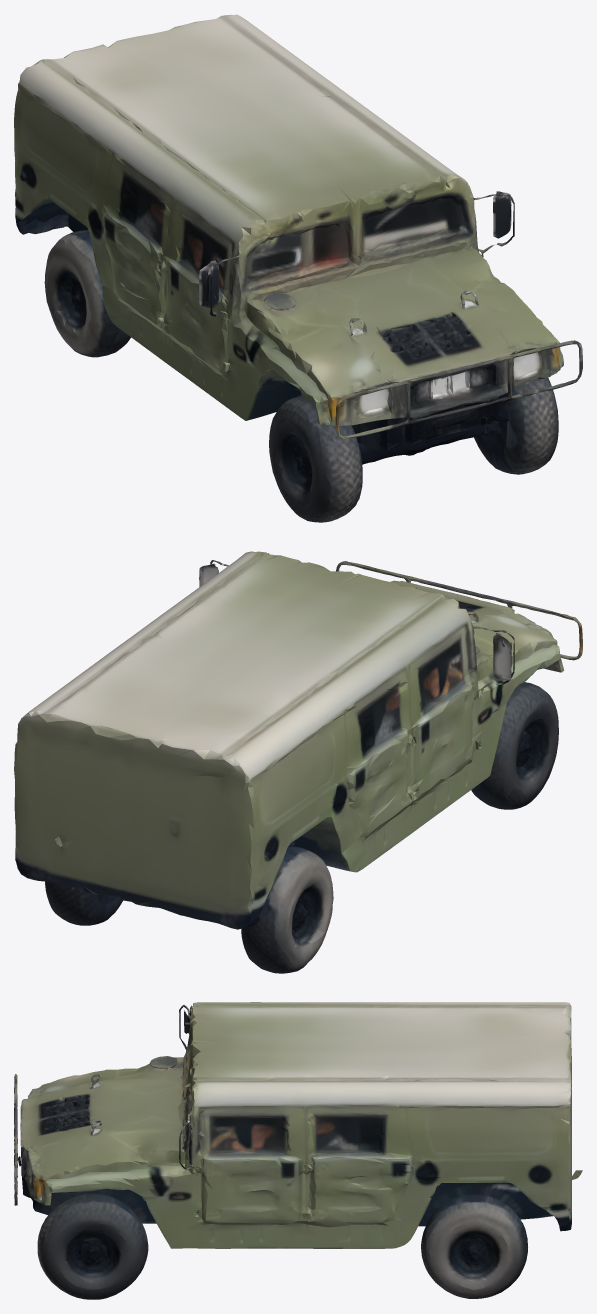
The model's file is Dongfeng_Mengshi_CSK181_AI_Rodin.glb.
3 renders of one model, top to bottom at view 1: azimuth 30°, elevation 25°; view 2: azimuth 150°, elevation 25°; view 3: azimuth 270°, elevation 25°, orthographic. The views are drawn at different scales.
Parts seen in each view (by area): view 1: model; view 2: model; view 3: model.
Part boxes in pixels (x1,y1,x2,y2): model: (14, 14, 582, 522); model: (14, 551, 582, 973); model: (14, 1002, 582, 1299).
Bounding box in the file's own units: 1.02 × 0.7867 × 1.9.
Materials: 1 (1 with a texture image).
